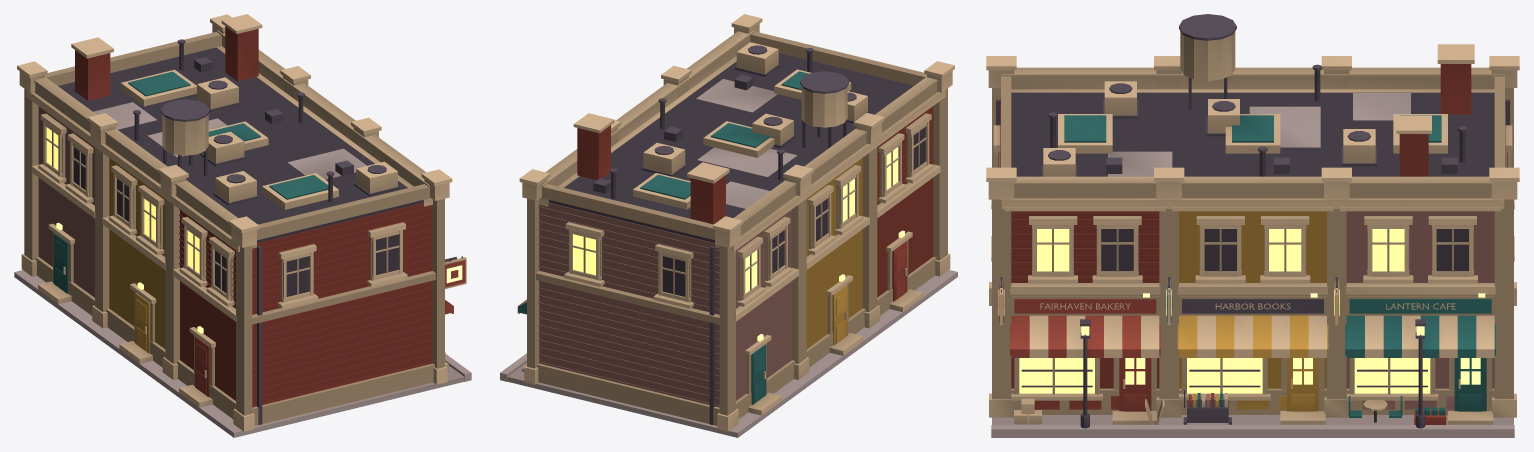
3 views of the same model, side by side, from view 1: azimuth 30°, elevation 25°; view 2: azimuth 150°, elevation 25°; view 3: azimuth 270°, elevation 25° (orthographic). The views are drawn at different scales.
Visible parts, largest first — view 1: body_pal_canvasTan, body_pal_brick, body_pal_asphalt, body_pal_sidewalk, body_pal_mustard, body_pal_plaidRed, body_pal_backpackTeal, body_emi_windowGlow; view 2: body_pal_canvasTan, body_pal_plaidRed, body_pal_asphalt, body_pal_sidewalk, body_pal_brick, body_pal_mustard, body_pal_backpackTeal, body_emi_windowGlow; view 3: body_pal_canvasTan, body_pal_asphalt, body_pal_brick, body_pal_sidewalk, body_emi_windowGlow, body_pal_mustard, body_pal_backpackTeal, body_pal_plaidRed.
Part boxes in pixels (x1,y1,x2,y2): body_pal_canvasTan: (17,14,466,431); body_pal_brick: (75,26,465,407); body_pal_asphalt: (58,39,462,424); body_pal_sidewalk: (14,102,471,437); body_pal_mustard: (109,158,165,353); body_pal_plaidRed: (38,106,94,297); body_pal_backpackTeal: (53,71,328,293); body_emi_windowGlow: (46,127,462,333); body_pal_canvasTan: (517,14,954,431); body_pal_plaidRed: (538,202,791,407); body_pal_asphalt: (548,45,925,424); body_pal_sidewalk: (500,79,957,437); body_pal_brick: (577,105,934,301); body_pal_mustard: (806,158,862,348); body_pal_backpackTeal: (518,71,809,404); body_emi_windowGlow: (573,147,904,341); body_pal_canvasTan: (986,31,1519,424); body_pal_asphalt: (996,14,1509,428); body_pal_brick: (998,64,1471,424); body_pal_sidewalk: (991,93,1514,437); body_emi_windowGlow: (998,229,1485,393); body_pal_mustard: (1177,211,1339,411); body_pal_backpackTeal: (1064,115,1495,417); body_pal_plaidRed: (1206,98,1505,409).
Size of the model in its own units: 10.1 by 10.22 by 16.54.
